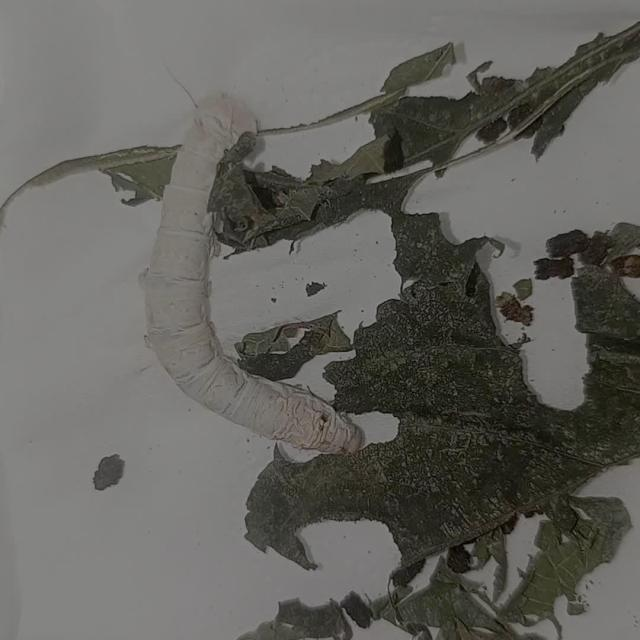Healthy: (142, 70, 396, 493)
